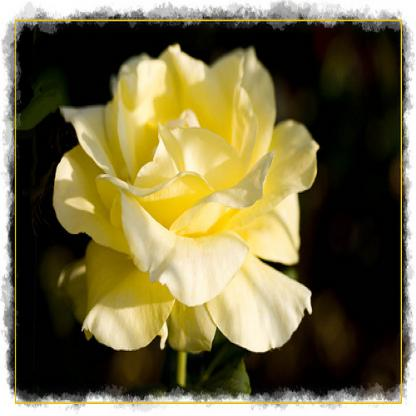ROSE-MAWAR: (49, 34, 315, 360)
